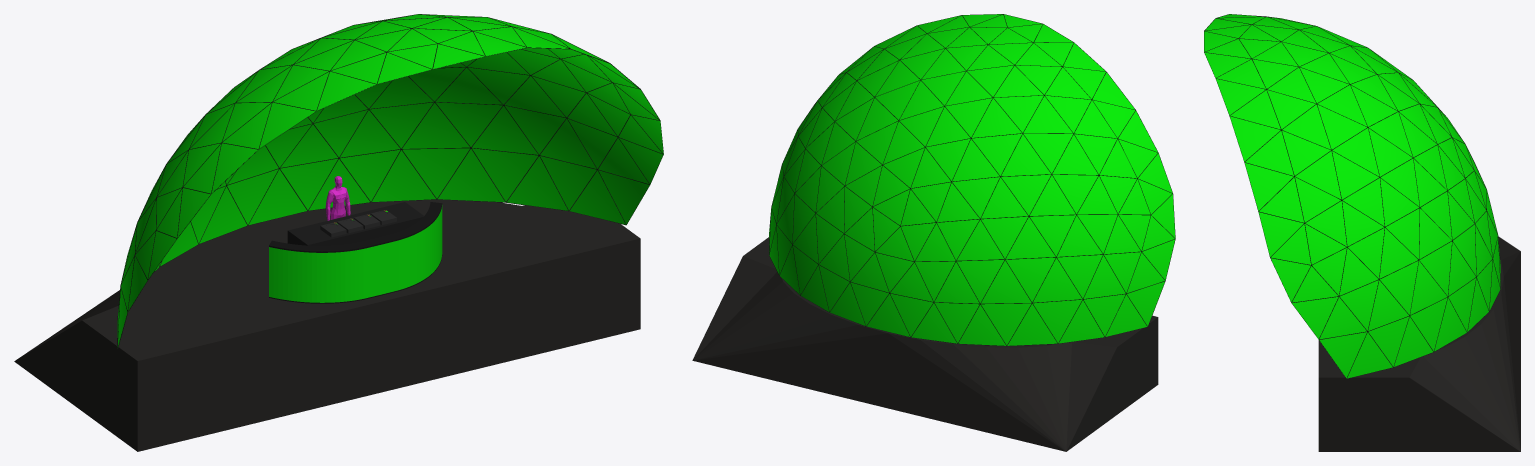
Rendered from DOME-greenStageExportClean.dae.
3 views of the same model, side by side, from view 1: azimuth 30°, elevation 25°; view 2: azimuth 150°, elevation 25°; view 3: azimuth 270°, elevation 25° (orthographic). The views are drawn at different scales.
Parts seen in each view (by area): view 1: TRUE-DOME_006, Cube_001, DOME_WIRE_003, actualDjBooth_001, cdJ__001, Cube_004; view 2: TRUE-DOME_006, Cube_001, DOME_WIRE_003; view 3: TRUE-DOME_006, Cube_001, DOME_WIRE_003.
Boxes of the visible parts, x1,y1,x2,y2 form: TRUE-DOME_006: (117, 14, 663, 346); Cube_001: (14, 199, 640, 451); DOME_WIRE_003: (117, 14, 663, 348); actualDjBooth_001: (287, 202, 423, 245); cdJ__001: (320, 210, 396, 237); Cube_004: (325, 176, 350, 220); TRUE-DOME_006: (769, 14, 1175, 345); Cube_001: (692, 237, 1158, 451); DOME_WIRE_003: (769, 14, 1175, 345); TRUE-DOME_006: (1204, 14, 1500, 378); Cube_001: (1318, 236, 1520, 451); DOME_WIRE_003: (1204, 14, 1500, 378).
Bounding box in the file's own units: 12.15 × 7.79 × 8.5.
